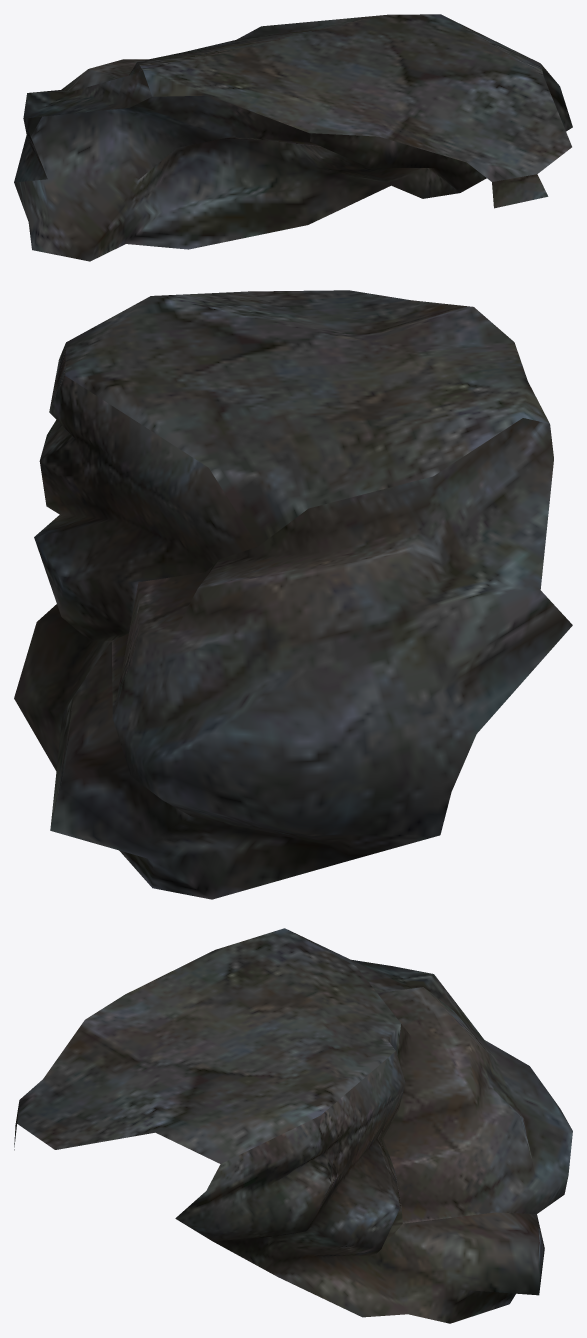
File: S_Rock_Yellow036_H10.FBX
3 views of the same model, one above another, from view 1: azimuth 30°, elevation 25°; view 2: azimuth 150°, elevation 25°; view 3: azimuth 270°, elevation 25° (orthographic). The views are drawn at different scales.
Visible parts, largest first — view 1: S_Rock_Yellow036_H10; view 2: S_Rock_Yellow036_H10; view 3: S_Rock_Yellow036_H10.
Part boxes in pixels (x1,y1,x2,y2): S_Rock_Yellow036_H10: (14, 14, 572, 261); S_Rock_Yellow036_H10: (14, 290, 572, 899); S_Rock_Yellow036_H10: (14, 928, 572, 1323).
Bounding box in the file's own units: 1219 × 1329 × 785.
1 material, 1 textured.
